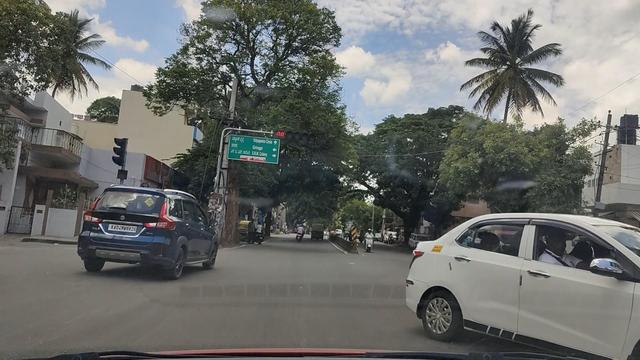LMV: (403, 213, 640, 360), (74, 168, 220, 271)
